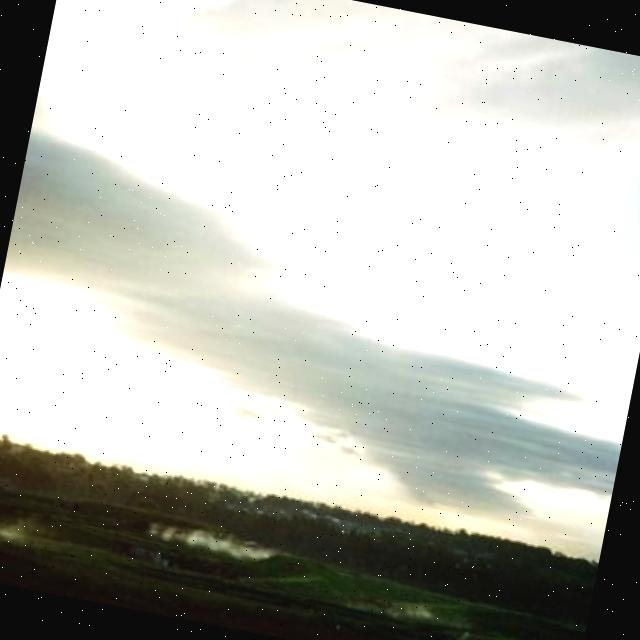Sc: (1, 23, 640, 509)
